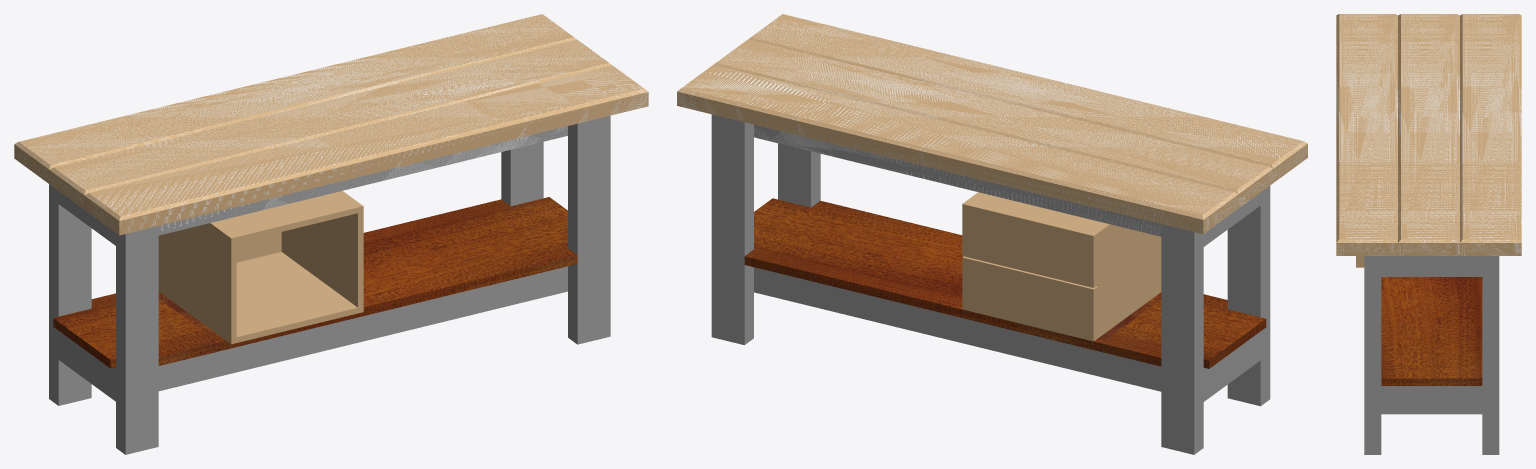
3 views of the same model, side by side, from view 1: azimuth 30°, elevation 25°; view 2: azimuth 150°, elevation 25°; view 3: azimuth 270°, elevation 25° (orthographic). The views are drawn at different scales.
Parts seen in each view (by area): view 1: mesh12_mesh12-geometry, mesh9_mesh9-geometry, mesh13_mesh13-geometry, mesh14_mesh14-geometry, mesh3_mesh3-geometry, mesh1_mesh1-geometry, mesh7_mesh7-geometry, mesh25_mesh25-geometry, mesh23_mesh23-geometry, mesh21_mesh21-geometry, mesh18_mesh18-geometry, mesh27_mesh27-geometry (+1 smaller); view 2: mesh14_mesh14-geometry, mesh9_mesh9-geometry, mesh13_mesh13-geometry, mesh12_mesh12-geometry, mesh3_mesh3-geometry, mesh1_mesh1-geometry, mesh5_mesh5-geometry, mesh30_mesh30-geometry, mesh29_mesh29-geometry, mesh15_mesh15-geometry, mesh23_mesh23-geometry, mesh27_mesh27-geometry; view 3: mesh12_mesh12-geometry, mesh13_mesh13-geometry, mesh14_mesh14-geometry, mesh1_mesh1-geometry, mesh9_mesh9-geometry.
Part boxes in pixels (x1,y1,x2,y2): mesh12_mesh12-geometry: [84, 65, 648, 235]; mesh9_mesh9-geometry: [53, 197, 577, 368]; mesh13_mesh13-geometry: [49, 39, 611, 209]; mesh14_mesh14-geometry: [14, 14, 576, 183]; mesh3_mesh3-geometry: [49, 184, 158, 454]; mesh1_mesh1-geometry: [501, 115, 610, 344]; mesh7_mesh7-geometry: [158, 266, 567, 391]; mesh25_mesh25-geometry: [158, 252, 363, 344]; mesh23_mesh23-geometry: [158, 224, 236, 341]; mesh21_mesh21-geometry: [281, 209, 363, 310]; mesh18_mesh18-geometry: [158, 126, 567, 235]; mesh27_mesh27-geometry: [207, 191, 363, 242]; mesh14_mesh14-geometry: [677, 65, 1238, 234]; mesh9_mesh9-geometry: [744, 198, 1266, 368]; mesh13_mesh13-geometry: [713, 39, 1272, 208]; mesh12_mesh12-geometry: [748, 14, 1307, 182]; mesh3_mesh3-geometry: [1161, 186, 1270, 454]; mesh1_mesh1-geometry: [711, 114, 820, 345]; mesh5_mesh5-geometry: [754, 267, 1161, 391]; mesh30_mesh30-geometry: [962, 200, 1098, 287]; mesh29_mesh29-geometry: [962, 256, 1098, 341]; mesh15_mesh15-geometry: [754, 124, 1161, 236]; mesh23_mesh23-geometry: [1097, 225, 1161, 334]; mesh27_mesh27-geometry: [967, 192, 1112, 234]; mesh12_mesh12-geometry: [1336, 14, 1397, 255]; mesh13_mesh13-geometry: [1398, 14, 1459, 255]; mesh14_mesh14-geometry: [1460, 14, 1521, 255]; mesh1_mesh1-geometry: [1364, 256, 1499, 454]; mesh9_mesh9-geometry: [1381, 277, 1482, 385].
Size of the model in its own units: 0.8677 by 0.3977 by 0.2983.
